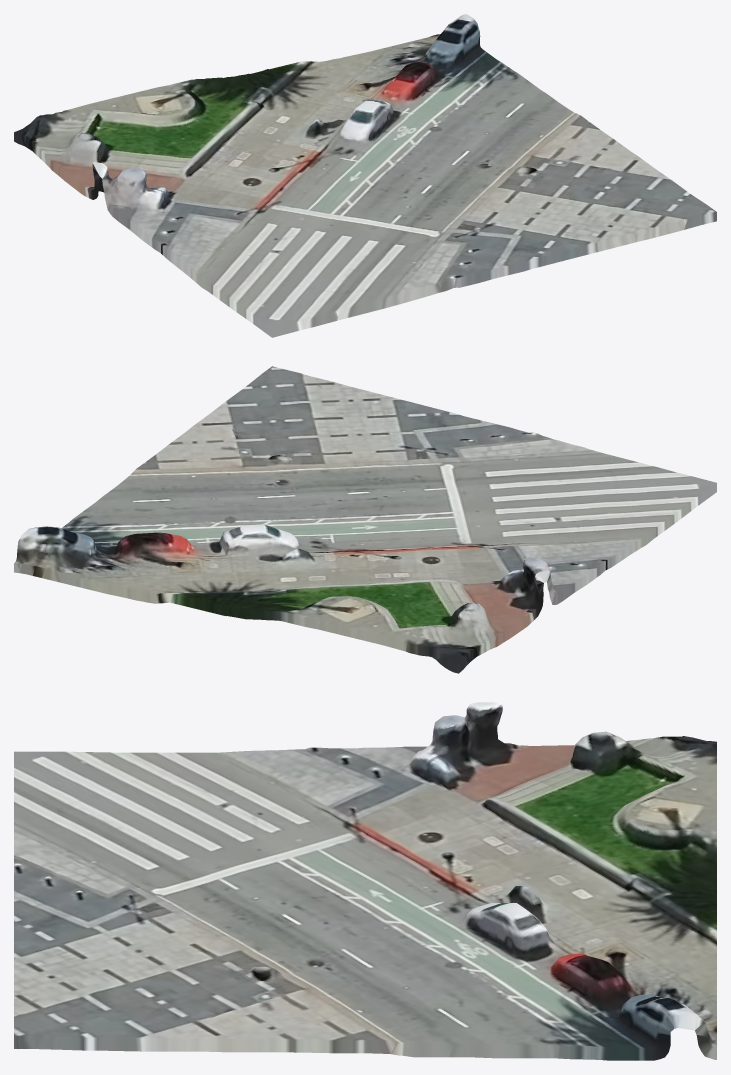
Rendered from z20-167788-405222-h0-yup-uvflip-v3-world.glb.
3 views of the same model, one above another, from view 1: azimuth 30°, elevation 25°; view 2: azimuth 150°, elevation 25°; view 3: azimuth 270°, elevation 25° (orthographic). The views are drawn at different scales.
Bounding box in the file's own units: 30.16 × 3.04 × 30.32.
Materials: 1 (1 with a texture image).
